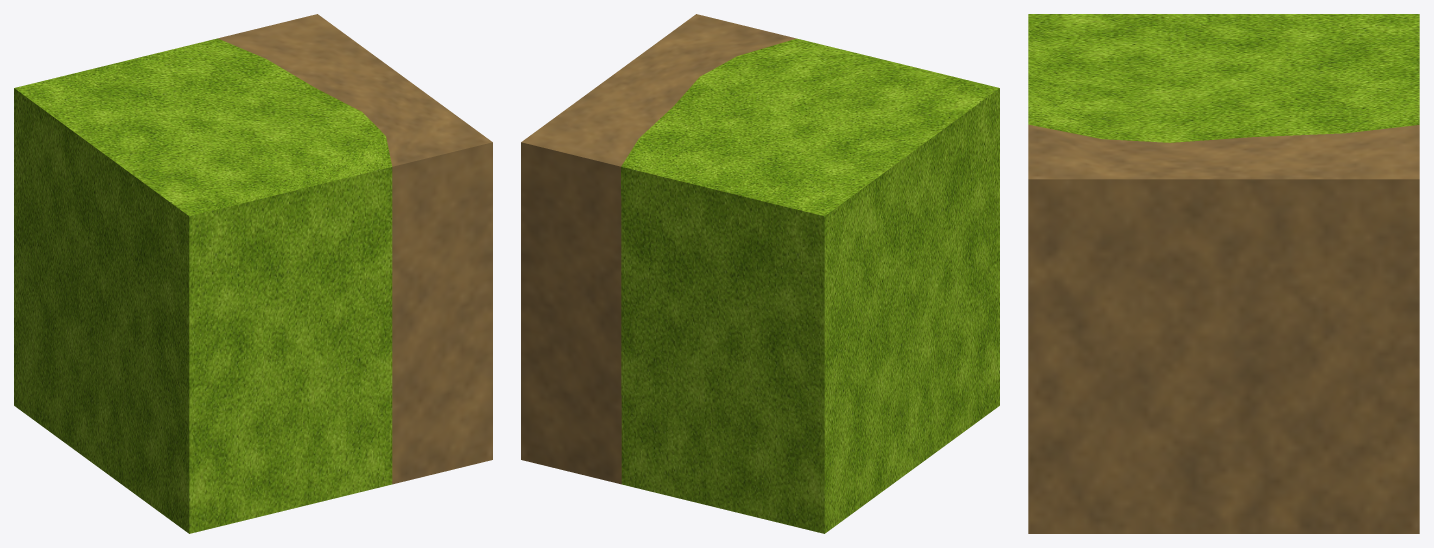
The model's file is Kusazimenblock.fbx.
3 renders of one model, left to right at view 1: azimuth 30°, elevation 25°; view 2: azimuth 150°, elevation 25°; view 3: azimuth 270°, elevation 25°, orthographic. The views are drawn at different scales.
Parts seen in each view (by area): view 1: pCube1; view 2: pCube1; view 3: pCube1.
Part boxes in pixels (x1,y1,x2,y2): pCube1: (14, 14, 492, 533); pCube1: (521, 14, 999, 533); pCube1: (1028, 14, 1419, 533).
Bounding box in the file's own units: 100 × 100 × 100.
